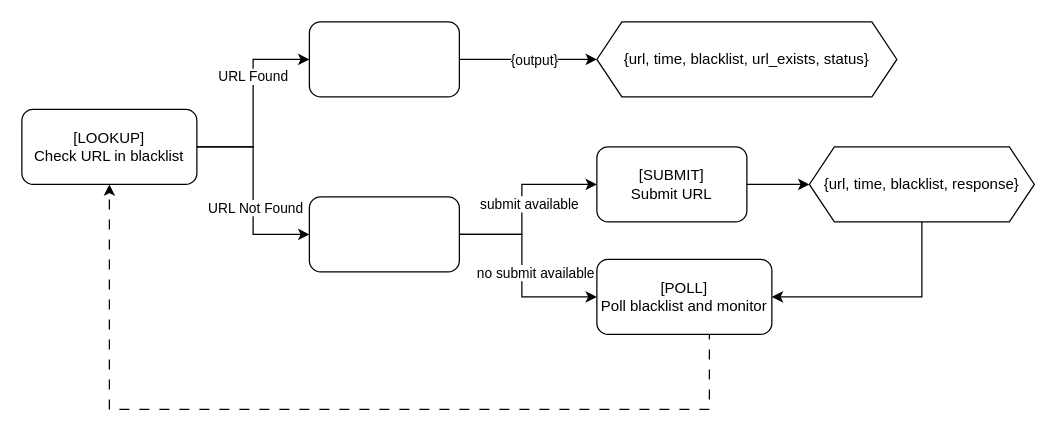
This 1056x441 diagram has some shape labels left out. Each missing label, with the centre of its shape:
"Check if submit is available" goes at (383,234).
"Check URL label" goes at (383,59).
